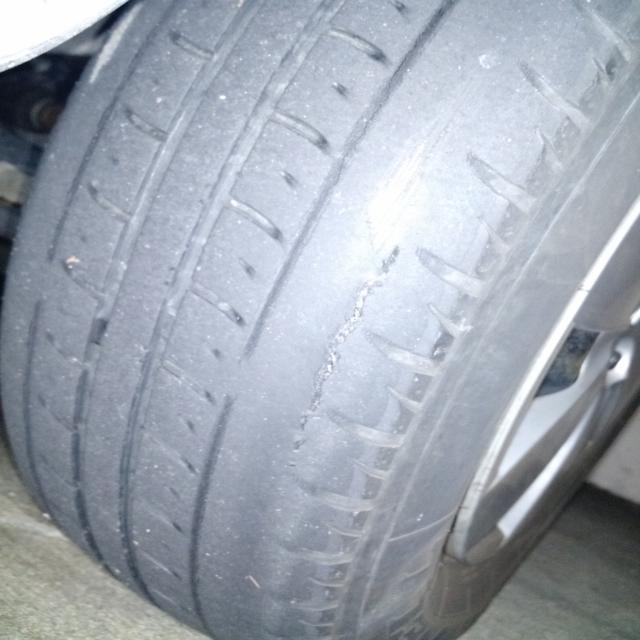Flat spots: (80, 63, 346, 539)
